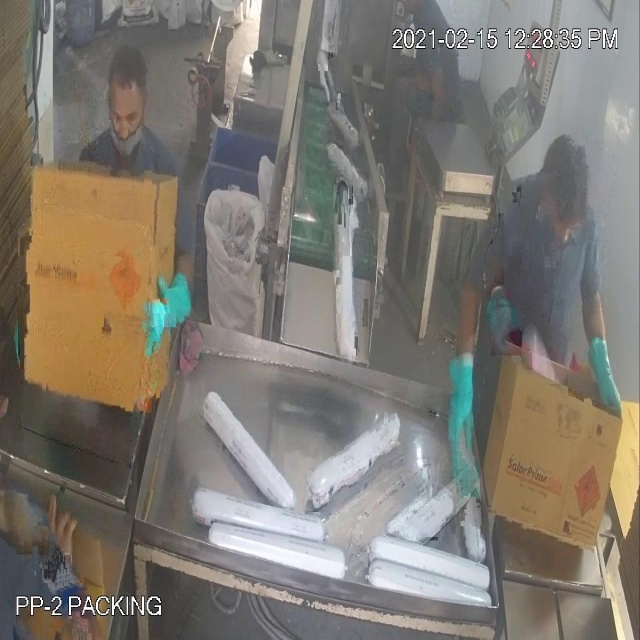Guantes: (439, 336, 488, 496), (127, 253, 194, 364), (582, 315, 630, 442)
Sin_guantes: (387, 57, 445, 110)
